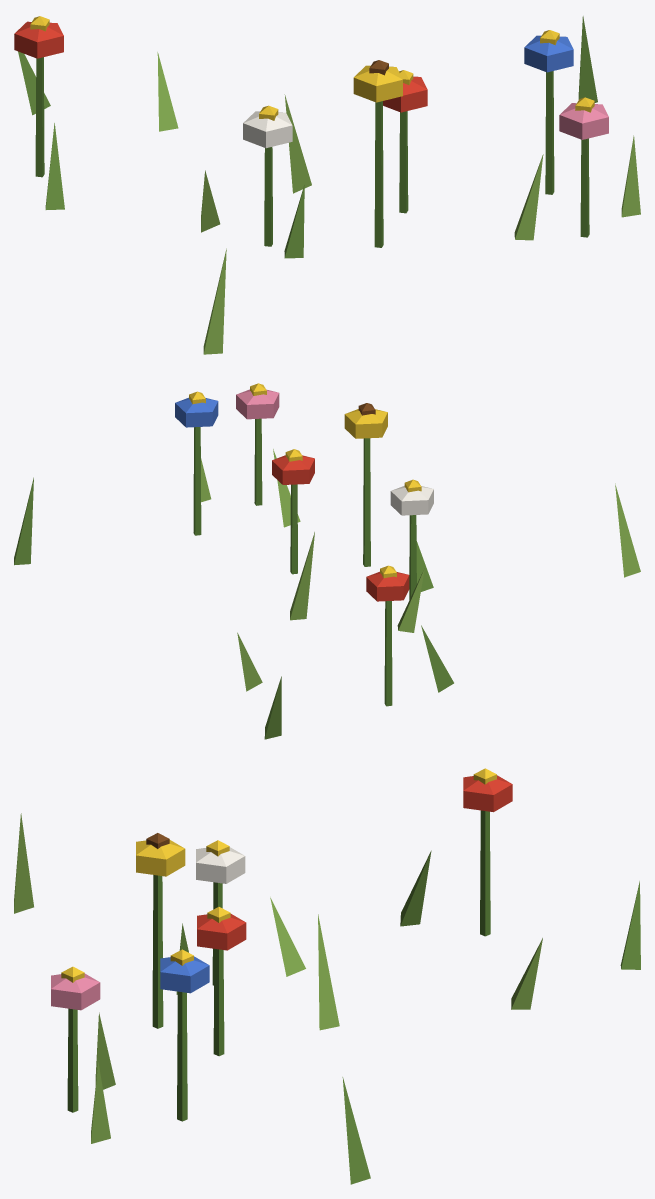
File: cover_flowers_mixed.glb
The picture shows the model from 3 angles, top to bottom: view 1: azimuth 30°, elevation 25°; view 2: azimuth 150°, elevation 25°; view 3: azimuth 270°, elevation 25°; orthographic projection. The views are drawn at different scales.
Visible parts, largest first — view 1: scatter_flowers_mixed; view 2: scatter_flowers_mixed; view 3: scatter_flowers_mixed.
Part boxes in pixels (bbox=[...]): scatter_flowers_mixed: bbox=[14, 16, 640, 354]; scatter_flowers_mixed: bbox=[14, 383, 640, 739]; scatter_flowers_mixed: bbox=[14, 768, 640, 1184].
Bounding box in the file's own units: 1.49 × 0.4854 × 1.39.
